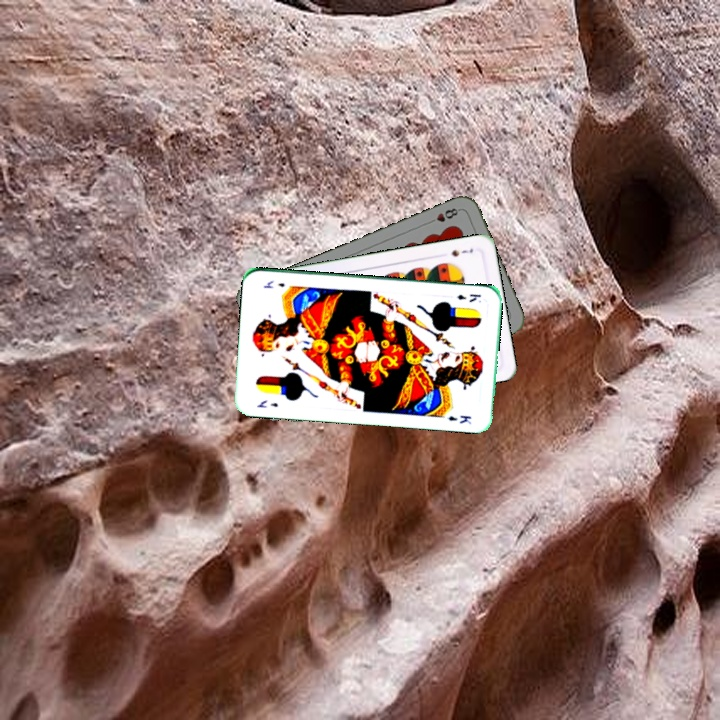EK: (453, 290, 483, 305), (253, 396, 280, 410)
H8: (424, 204, 463, 226)
S7: (447, 244, 476, 259)
